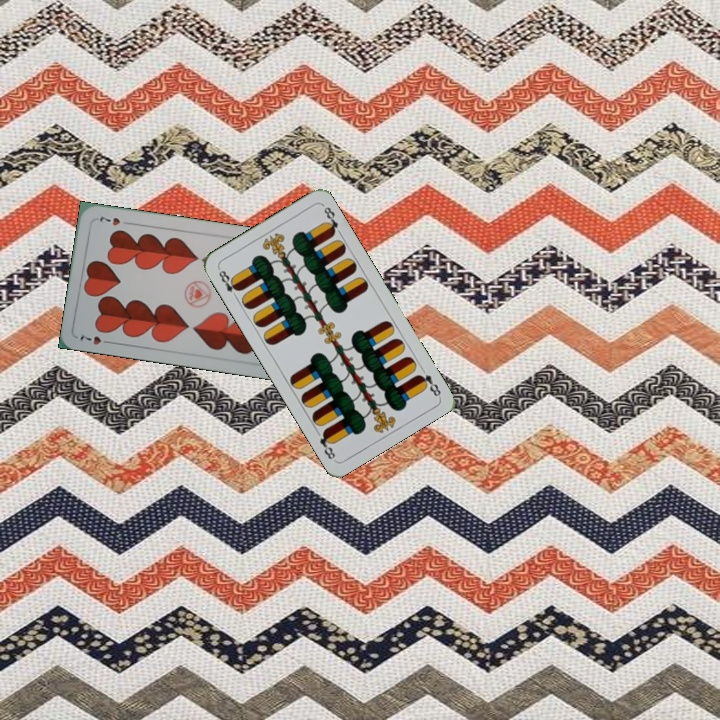E8: (414, 362, 444, 399), (214, 264, 243, 302)
H7: (76, 331, 115, 347)
